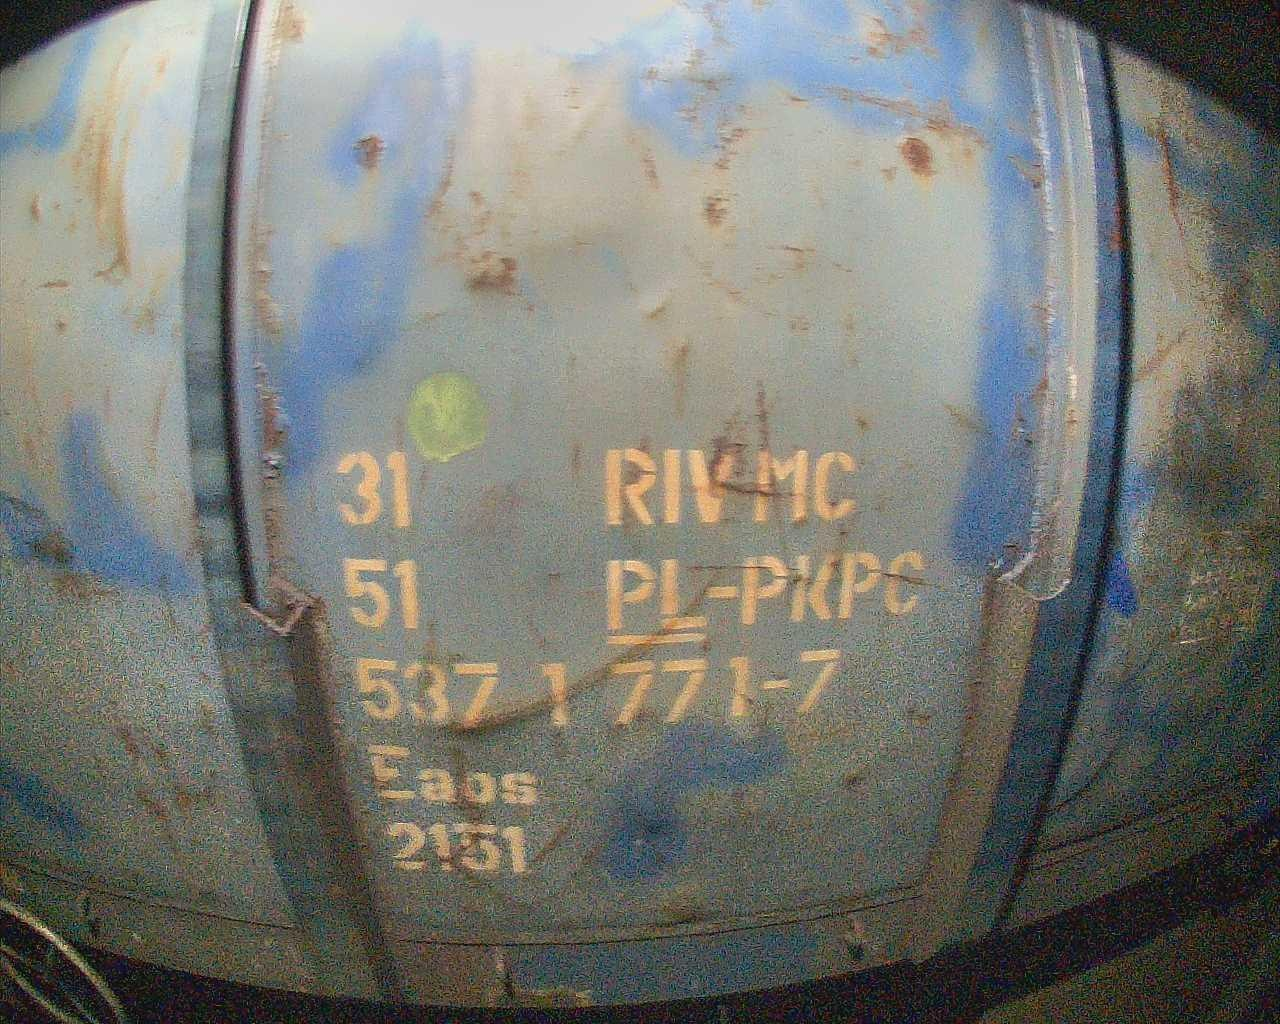UIC: (335, 449, 933, 877)
